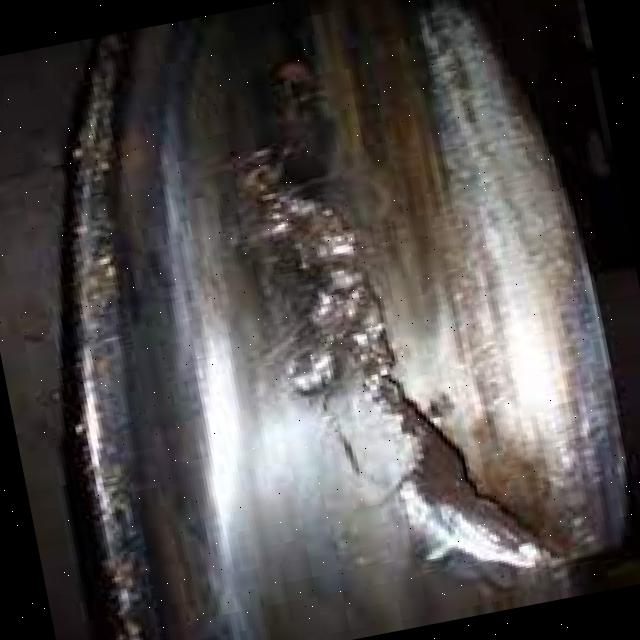Contact_Fatigue_Cracks: (188, 63, 606, 617)
